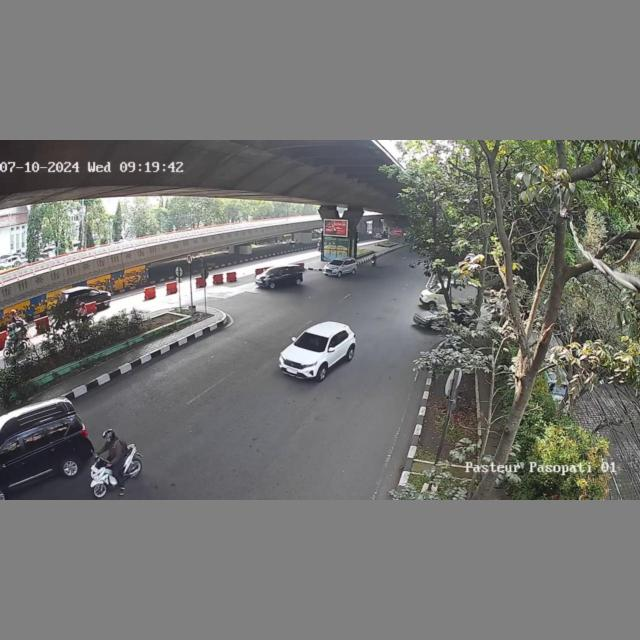windshield: (294, 332, 328, 352)
